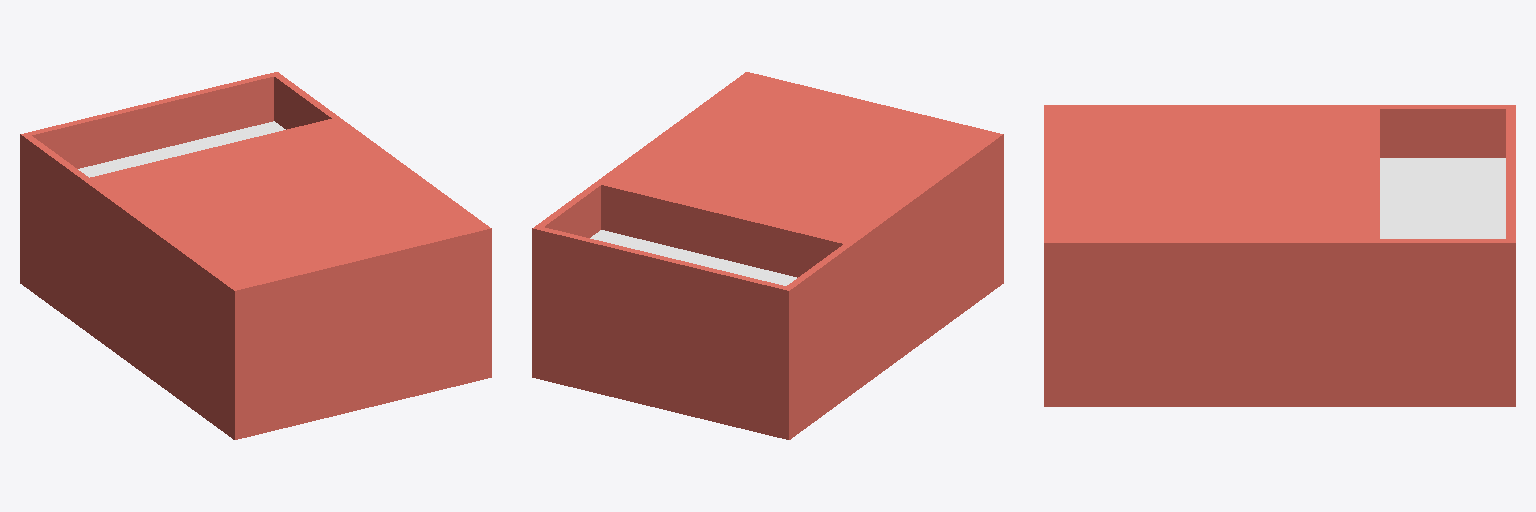
URDF robot description (test-box):
<?xml version="1.0"?>
<robot name="test-box"
       xmlns:xi="http://www.w3.org/2001/XInclude">
  <gazebo>
    <static>false</static>
  </gazebo>
  <link name="nil_link">
    <visual>
      <origin xyz="0 0 0" rpy="0 -0 0"/>
      <geometry>
        <mesh filename="model://test-box/meshes/nil_link_mesh.dae" scale="1 1 1" />
      </geometry>
    </visual>
    <collision>
      <origin xyz="0 0 0" rpy="0 -0 0"/>
      <geometry>
        <mesh filename="model://test-box/meshes/nil_link_mesh.dae" scale="1 1 1" />
      </geometry>
    </collision>
    <inertial>
      <mass value="0.001" />
      <origin xyz="0 0 0" rpy="0 -0 0"/>
      <inertia ixx="1e-03" ixy="0" ixz="0" iyy="1e-03" iyz="0" izz="1e-03"/>
    </inertial>
  </link>
  <gazebo reference="nil_link">
    <mu1>0.9</mu1>
    <mu2>0.9</mu2>
  </gazebo>
</robot>

--- Render facts (derived) ---
Views: 3 orthographic renders of the robot side by side, from view 1: azimuth 30°, elevation 25°; view 2: azimuth 150°, elevation 25°; view 3: azimuth 270°, elevation 25°.
Robot: test-box — 1 links, 0 joints (none); root link nil_link; default pose: every joint at zero.
Links seen in each view (by area): view 1: nil_link; view 2: nil_link; view 3: nil_link.
Link boxes in pixels (left/top/right/bottom): nil_link: left=20, top=72, right=491, bottom=439; nil_link: left=532, top=72, right=1003, bottom=439; nil_link: left=1044, top=105, right=1515, bottom=406.
Bounding box of the posed robot: 0.18 × 0.26 × 0.1 m (x, y, z).
Meshes: 1 distinct files referenced, 1 mesh visuals loaded (1 Collada DAE).